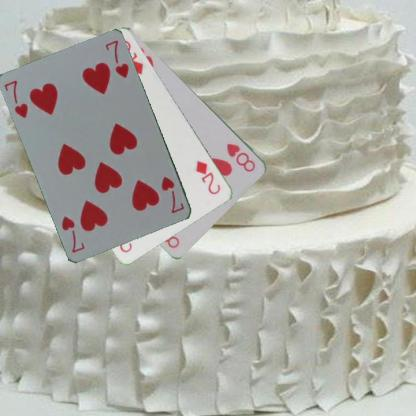2d: (194, 158, 223, 196)
7h: (158, 174, 186, 215), (2, 78, 30, 119)
8h: (224, 140, 257, 174)
